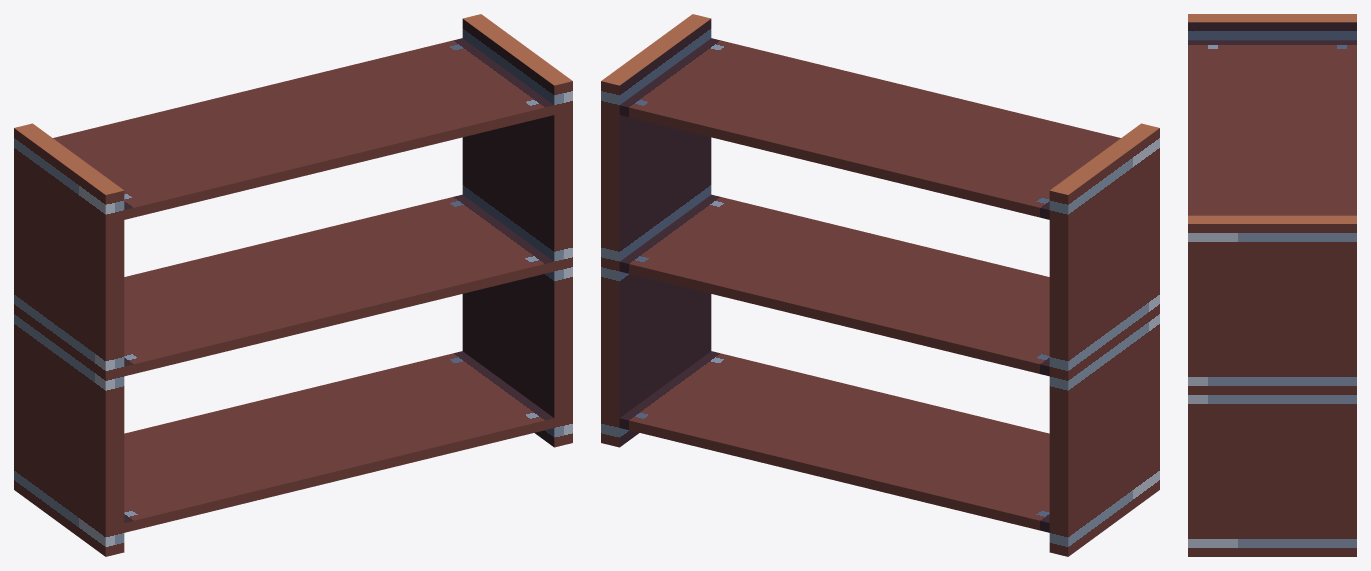
The model's file is Shelf.gltf.
The picture shows the model from 3 angles, left to right: view 1: azimuth 30°, elevation 25°; view 2: azimuth 150°, elevation 25°; view 3: azimuth 270°, elevation 25°; orthographic projection. The views are drawn at different scales.
Visible parts, largest first — view 1: cube; view 2: cube; view 3: cube.
Part boxes in pixels (x1,y1,x2,y2): cube: (14, 14, 572, 556); cube: (601, 14, 1159, 556); cube: (1188, 14, 1356, 556).
Bounding box in the file's own units: 3.12 × 2.31 × 1.06.
1 material, 1 textured.
